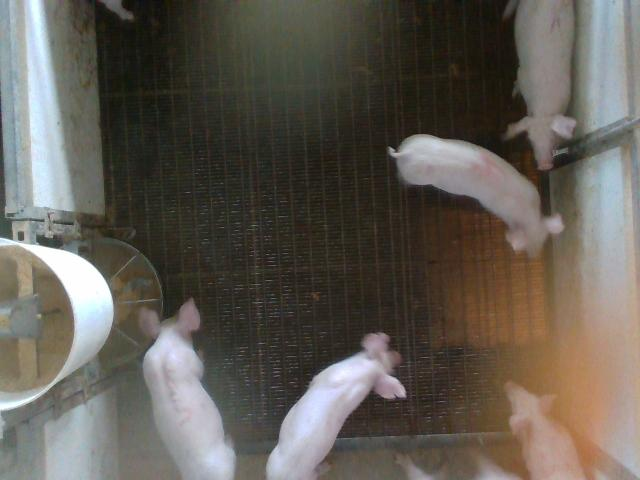pig-3: (141, 299, 235, 478)
pig-4: (389, 134, 564, 258)
